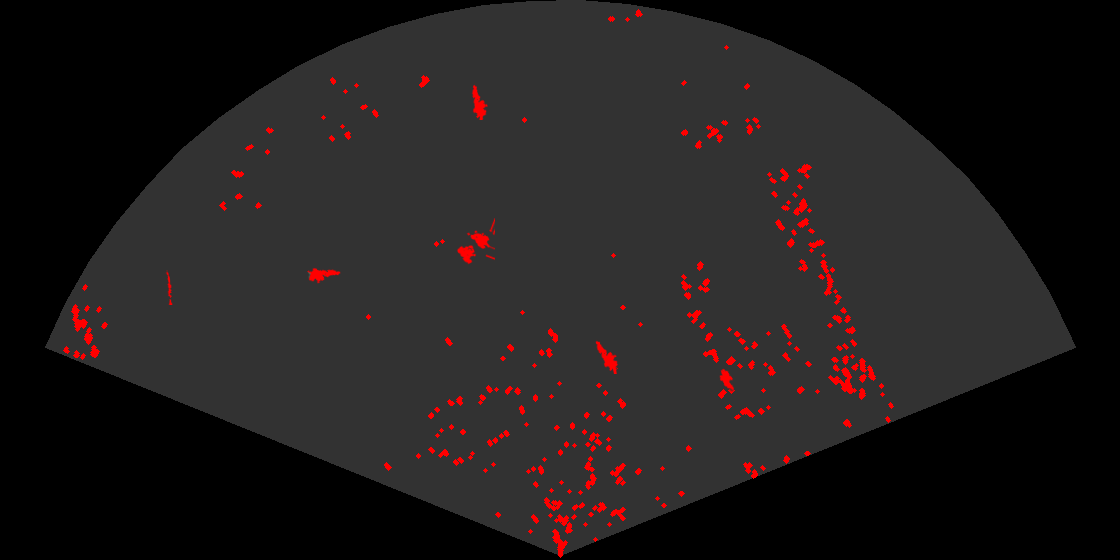AUV: (718, 367, 736, 392)
cage: (455, 218, 495, 266)
chain: (165, 270, 174, 305)
frogman: (594, 339, 620, 374), (470, 83, 489, 120), (306, 266, 341, 285)
